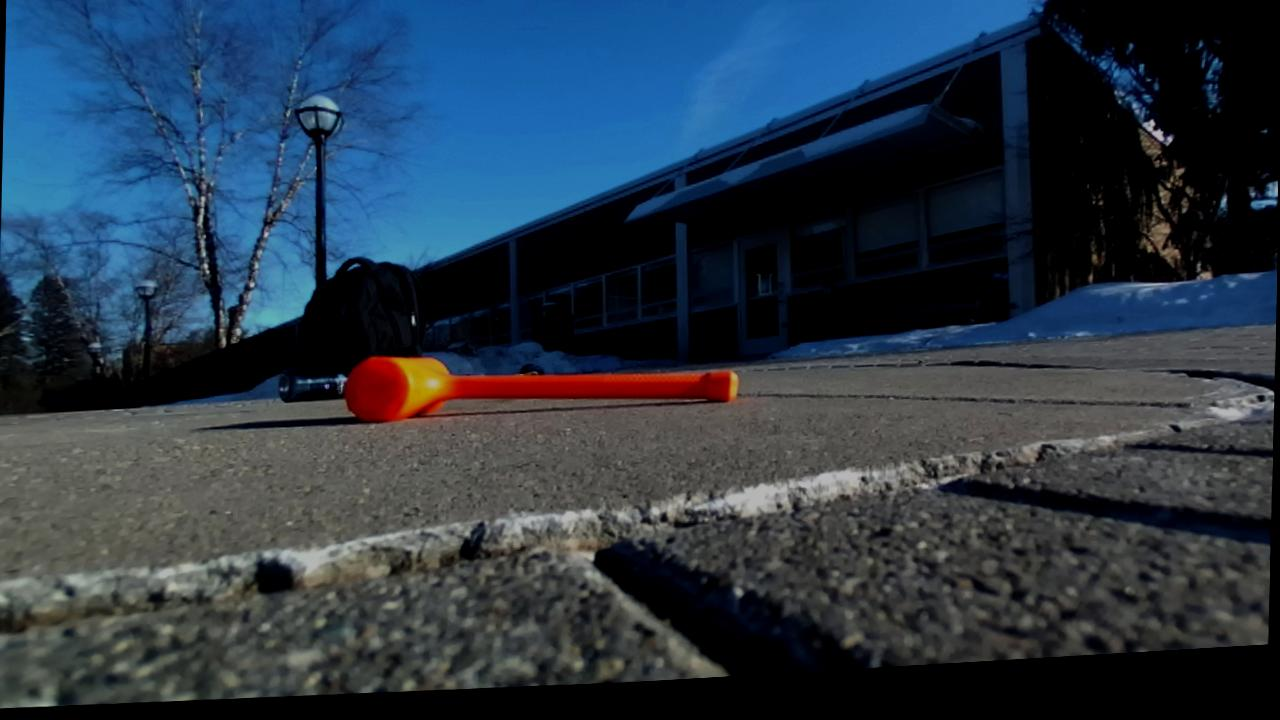mallet: (343, 356, 738, 421)
